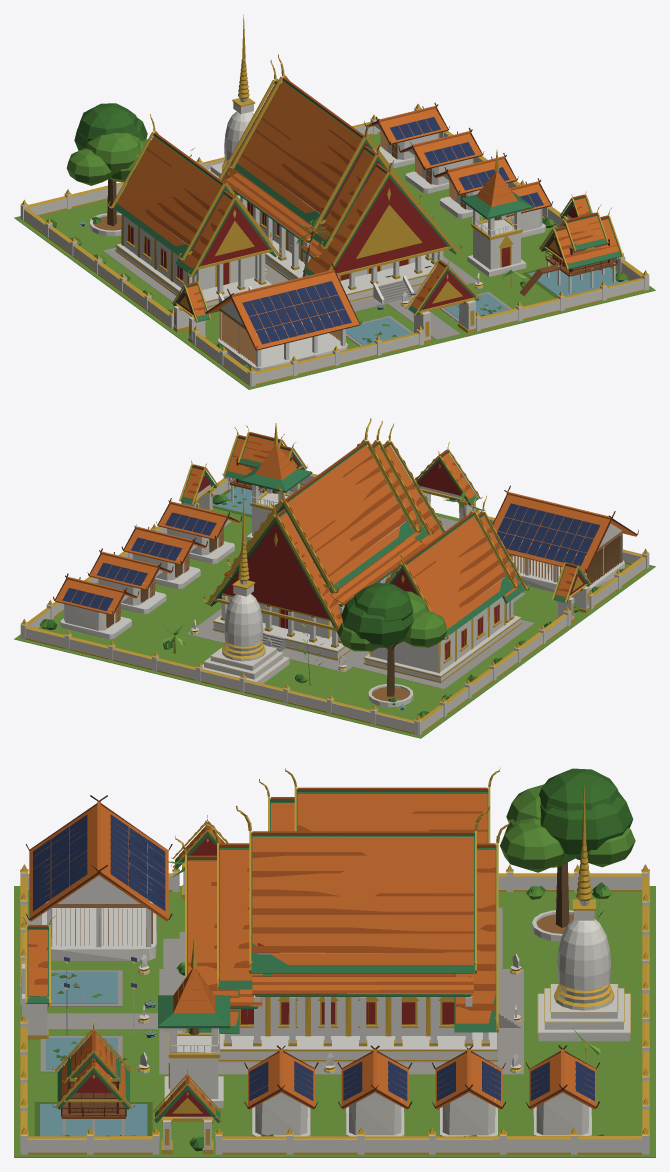
File: temple_3.glb
3 views of the same model, one above another, from view 1: azimuth 30°, elevation 25°; view 2: azimuth 150°, elevation 25°; view 3: azimuth 270°, elevation 25° (orthographic). The views are drawn at different scales.
Visible parts, largest first — view 1: body; view 2: body; view 3: body.
Part boxes in pixels (x1,y1,x2,y2): body: (14,14,655,389); body: (14,418,655,738); body: (14,767,655,1157).
Size of the model in its own units: 47.9 by 19.68 by 47.9.
